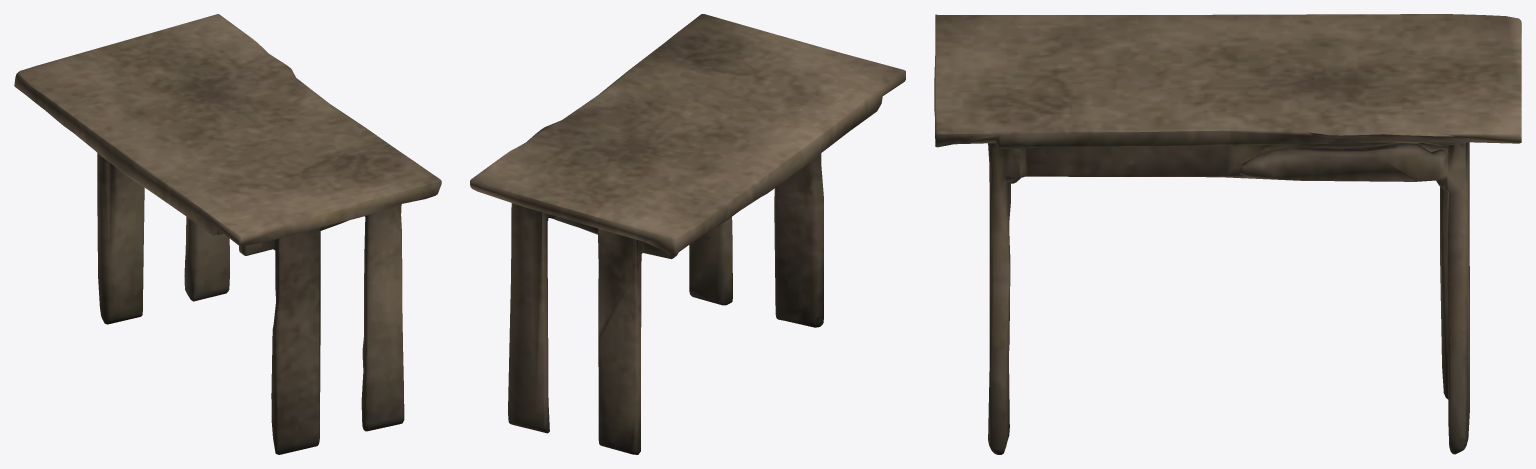
The model's file is chipped-wood-table-v001.glb.
3 views of the same model, side by side, from view 1: azimuth 30°, elevation 25°; view 2: azimuth 150°, elevation 25°; view 3: azimuth 270°, elevation 25° (orthographic). The views are drawn at different scales.
Visible parts, largest first — view 1: chipped-wood-table; view 2: chipped-wood-table; view 3: chipped-wood-table.
Boxes of the visible parts, left/top/right/bottom form: chipped-wood-table: left=14, top=14, right=441, bottom=454; chipped-wood-table: left=470, top=14, right=905, bottom=454; chipped-wood-table: left=934, top=14, right=1521, bottom=454.
Size of the model in its own units: 0.5957 by 0.709 by 1.12.
Materials: 1 (1 with a texture image).
